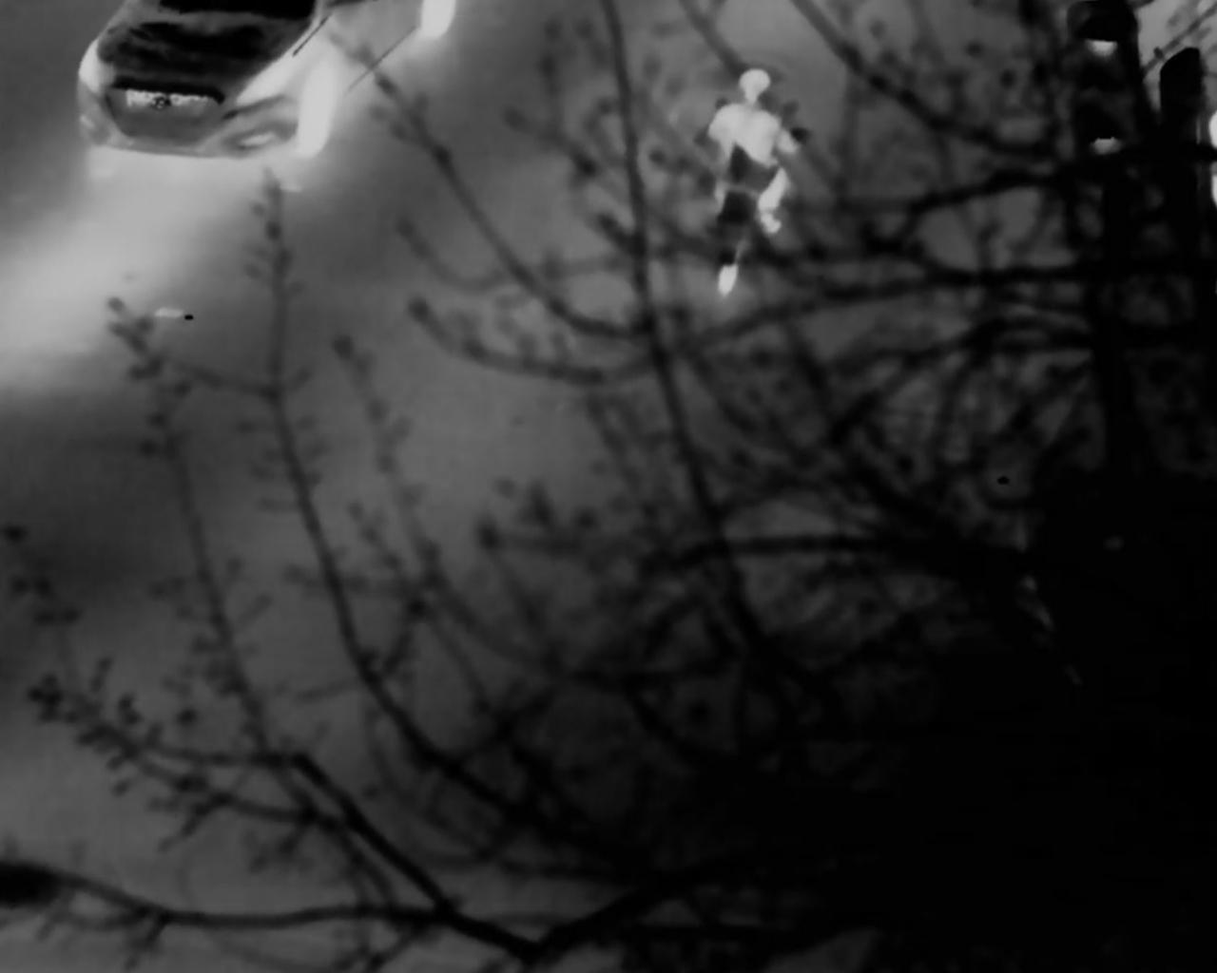person: (706, 64, 794, 261)
